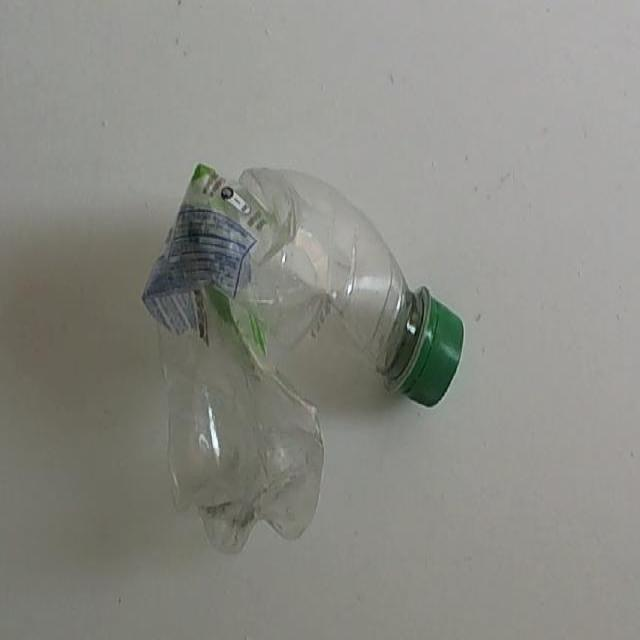defect: (139, 159, 467, 558)
